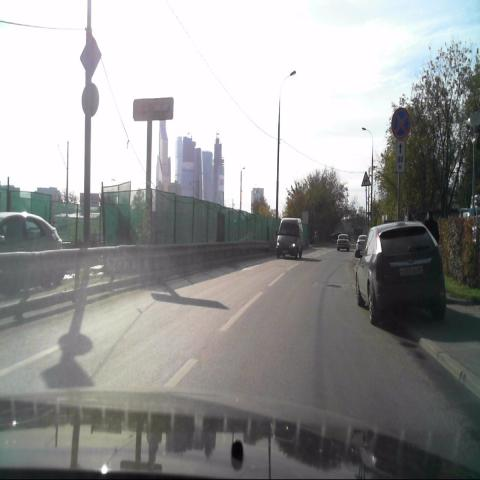8_2_2: (394, 140, 406, 174)
